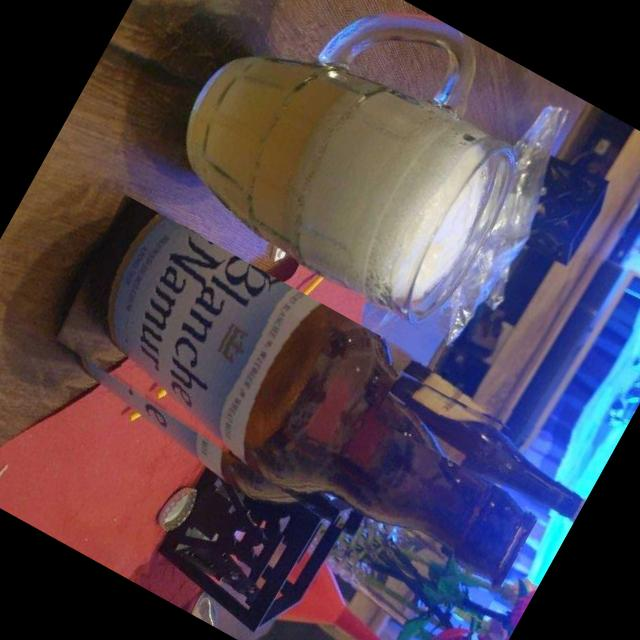Glass: (22, 192, 578, 624), (150, 0, 568, 336), (373, 368, 599, 528)
